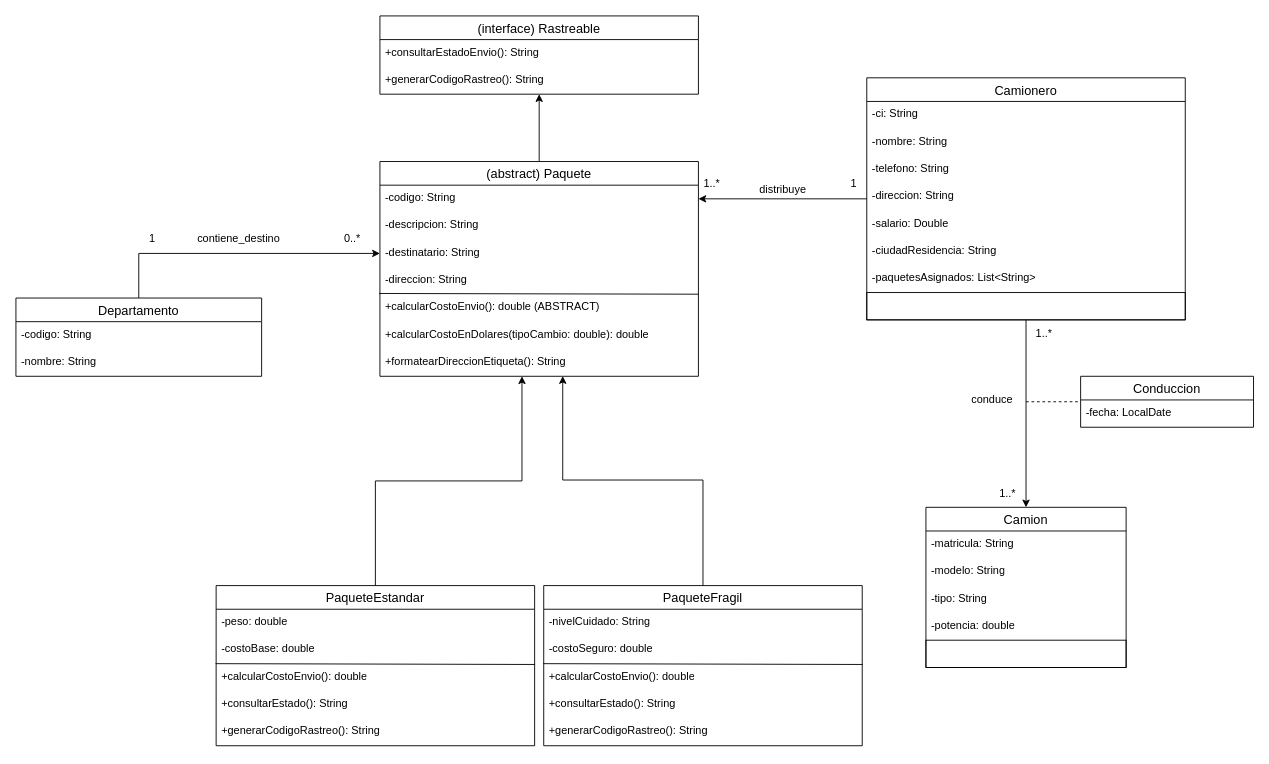
Image size: 1269x764. Some labels were removed from this diagram. The centre of each missing label's shape, as x and y in pixels:
"+esMatriculaValida(): boolean" goes at pixel 1025 653.
"+limpiarCI(ciConFormato: String): String" goes at pixel 1025 306.
